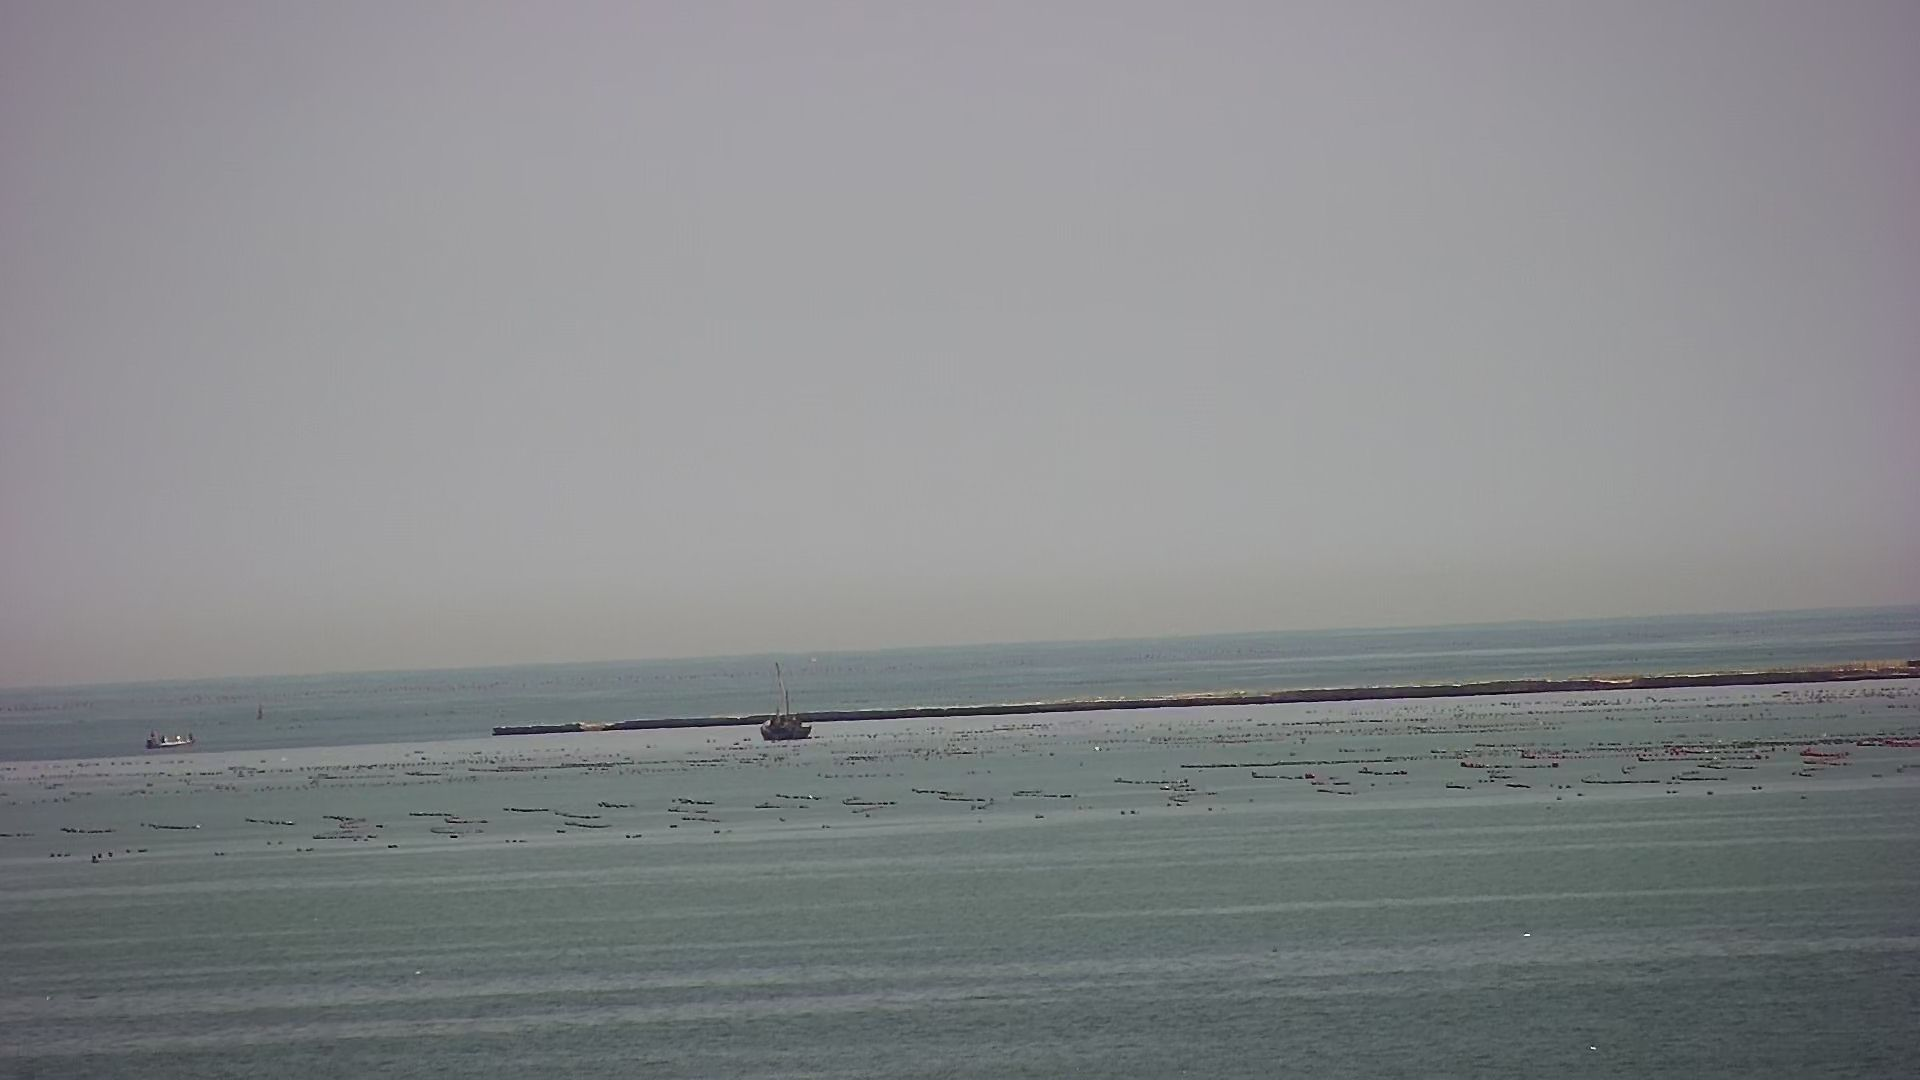boat: (762, 661, 814, 742), (141, 727, 200, 752)
